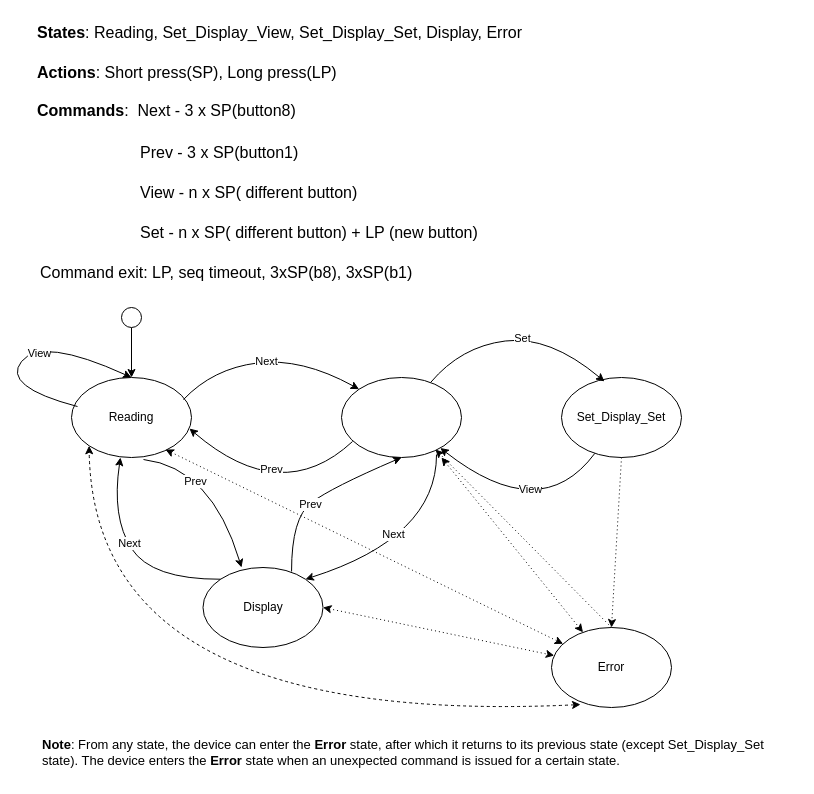
Some shapes in this 814 by 794 pixel diagram are drawn without their labels. Here are the shapes that lost their labels. From the top down, the box of each, then its label:
(120, 306, 142, 328): Entry
(340, 376, 462, 458): Set_Display_View
